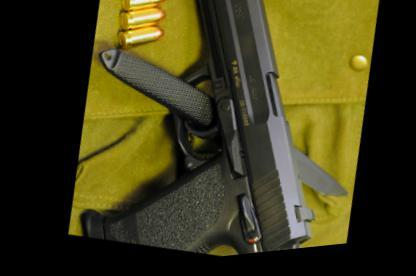pistol: (50, 0, 369, 269)
